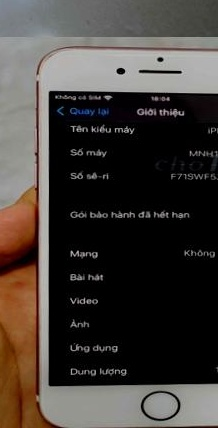scratch: (36, 49, 68, 66)
